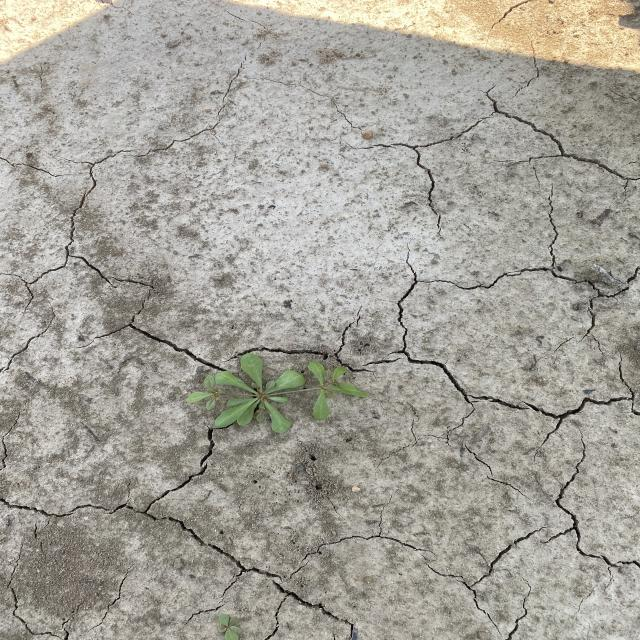Carpetweed: (184, 350, 372, 436)
